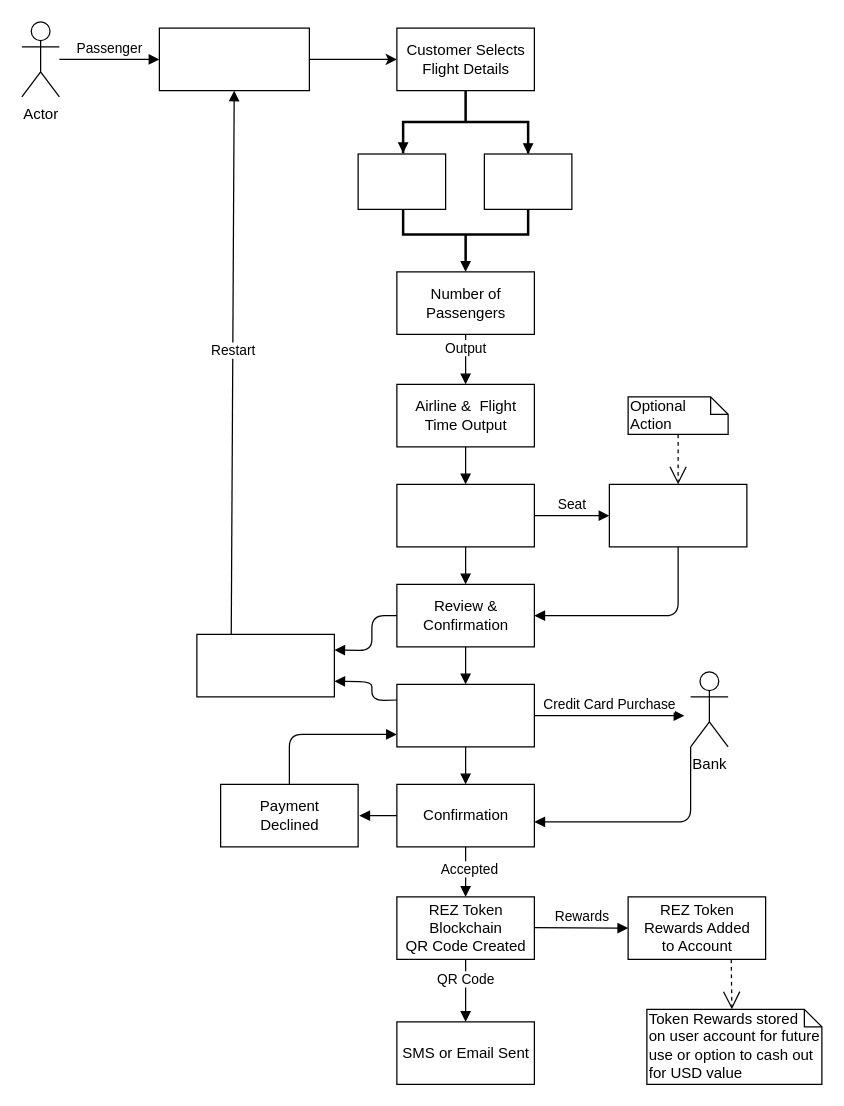
Some shapes in this 844 by 1106 pixel diagram are drawn without their labels. The centre of each missing label's shape, as x and y in pixels:
Cancel: (x=265, y=665)
Flight Date: (x=401, y=181)
Flight Time: (x=527, y=181)
Passenger Option Selected: (x=465, y=515)
Payment: (x=465, y=715)
Seat Selection: (x=677, y=515)
«interface» Flight Reservations: (x=233, y=59)
